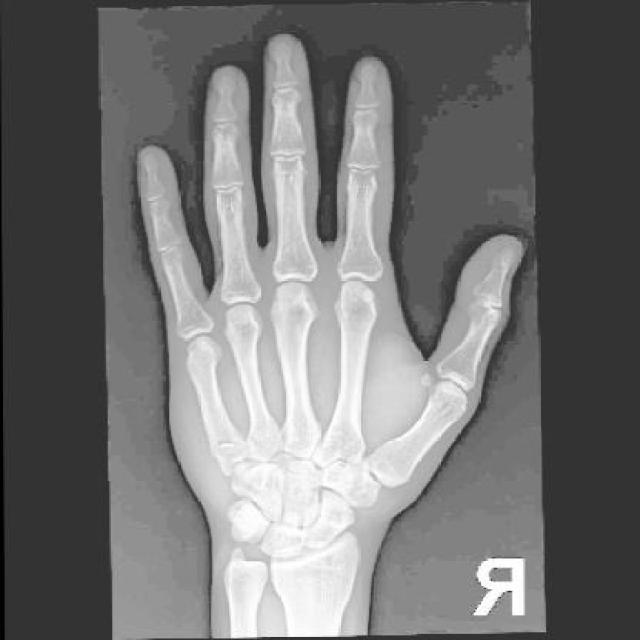Fracture: (207, 432, 247, 468)
